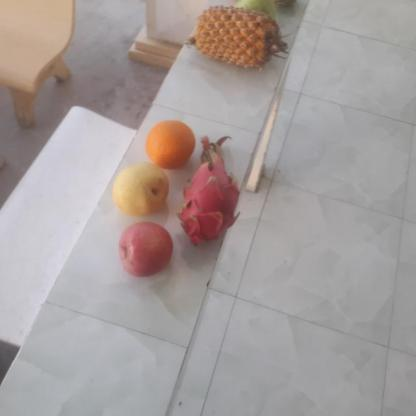apple: (115, 221, 173, 278)
orange: (142, 120, 196, 170)
pear: (110, 162, 171, 216)
pineapple: (195, 2, 279, 70)
pitaya: (172, 149, 242, 246)
